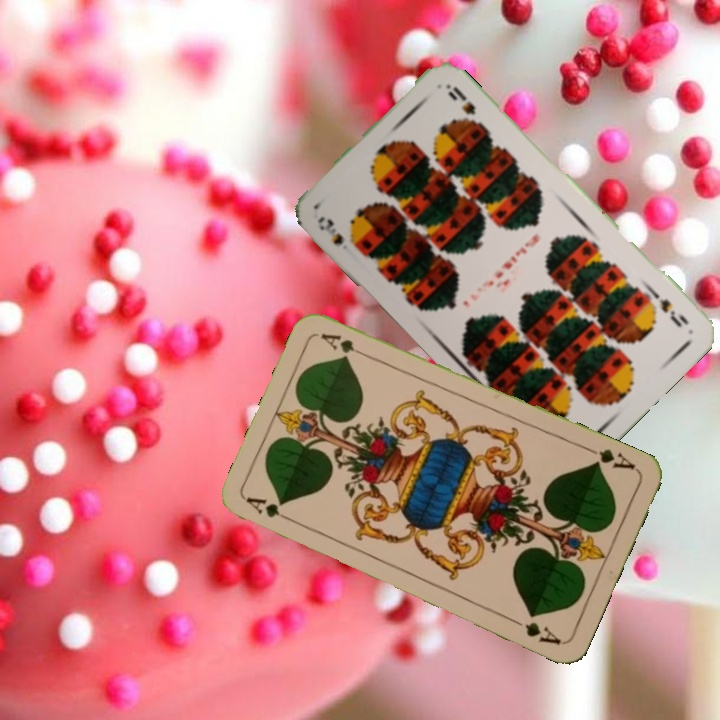GA: (242, 493, 299, 527), (582, 444, 639, 474)
S9: (313, 212, 362, 253), (655, 294, 692, 330)
